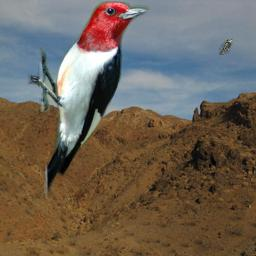Cuckoo: (219, 39, 233, 55)
Woodpecker: (26, 1, 151, 199)
